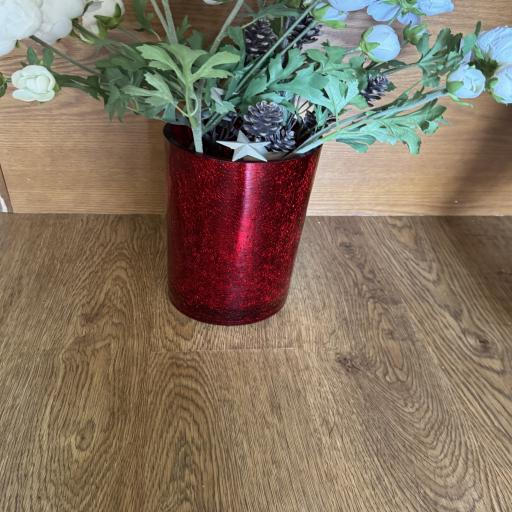Plant Pot: (162, 102, 320, 324)
